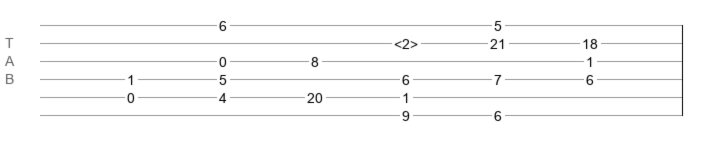0: (127, 90, 135, 100), (219, 54, 227, 64)
1: (127, 72, 135, 82), (402, 90, 410, 100), (586, 54, 594, 64)
18: (582, 36, 598, 46)
20: (307, 90, 323, 100)
21: (490, 36, 506, 46)
4: (219, 90, 227, 100)
5: (219, 72, 227, 82), (494, 18, 502, 28)
6: (219, 18, 227, 28), (402, 72, 410, 82), (494, 108, 502, 118), (586, 72, 594, 82)
7: (494, 72, 502, 82)
8: (311, 54, 319, 64)
9: (402, 108, 410, 118)
harmonic: (394, 36, 418, 46)
